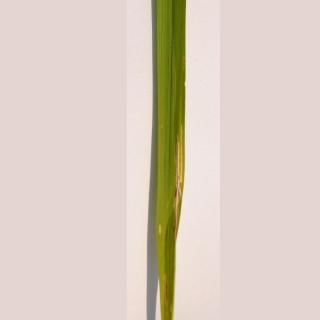Hawar-Daun: (166, 118, 194, 242), (154, 228, 182, 320)
